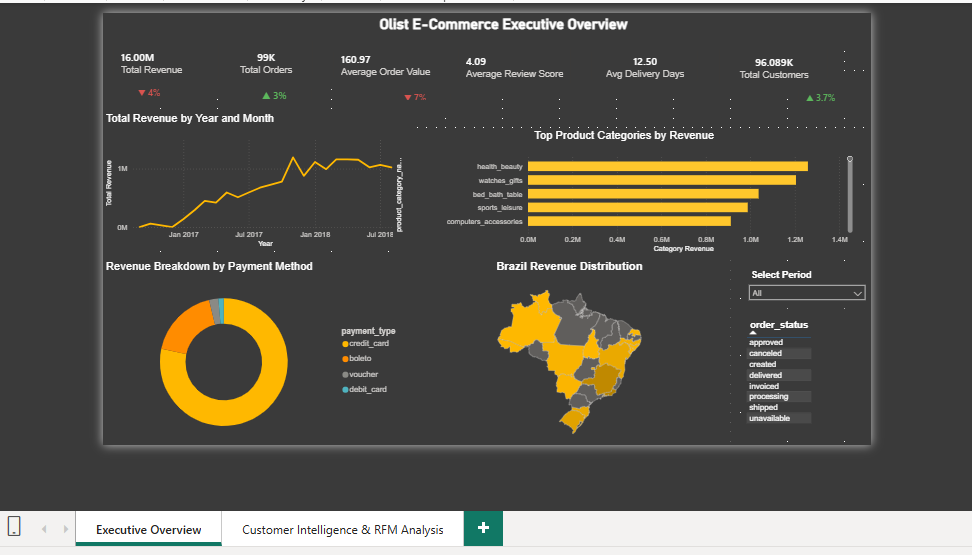

Layout of this report page (visuals, bound fields, positions):
{"tool":"powerbi","page":{"name":"Executive Overview","canvas":[1280,720],"ordinal":0},"visuals":[{"type":"textbox","box":[81.5,0,1172.4,62.5],"z":0},{"type":"cardVisual","fields":{"Data":["_Key Measures.Total Revenue"]},"box":[0,32,174.5,98.9],"z":1000},{"type":"cardVisual","fields":{"Data":["_Key Measures.Total Orders"]},"box":[174.5,29.1,192,104.7],"z":2000},{"type":"cardVisual","fields":{"Data":["_Key Measures.Average Order Value"]},"box":[366.7,45,208.3,81.7],"z":3000},{"type":"cardVisual","fields":{"Data":["_Key Measures.Average Review Score"]},"box":[574.5,40.7,222.5,96],"z":4000},{"type":"cardVisual","fields":{"Data":["_Key Measures.Avg Delivery Days"]},"box":[797.1,45.1,212.4,85.8],"z":5000},{"type":"lineChart","fields":{"Category":["public olist_orders.order_purchase_timestamp.Variation.Date Hierarchy.Year","public olist_orders.order_purchase_timestamp.Variation.Date Hierarchy.Month"],"Y":["_Key Measures.Total Revenue"]},"box":[0,165.8,508.6,230.7],"z":6000},{"type":"barChart","title":"Top Product Categories by Revenue","fields":{"Category":["public product_category_name_translation.product_category_name_english"],"Y":["_Key Measures.Category Revenue"]},"box":[482.9,193.5,770.9,210.9],"z":7000},{"type":"donutChart","title":"Revenue Breakdown by Payment Method","fields":{"Category":["public olist_order_payments.payment_type"],"Y":["_Key Measures.Total Revenue"]},"box":[0,411.9,508.6,308.2],"z":8000},{"type":"shapeMap","title":"Brazil Revenue Distribution","fields":{"Category":["public olist_customers.State_Name"],"Value":["_Key Measures.Total Revenue"]},"box":[509,411.2,538,307.9],"z":9000},{"type":"slicer","fields":{"Values":["public olist_orders.order_purchase_timestamp"]},"box":[1066.9,423.8,213.7,68.8],"z":10000},{"type":"tableEx","fields":{"Values":["public olist_orders.order_status"]},"box":[1066.9,505.4,213.7,197.4],"z":11000},{"type":"cardVisual","fields":{"Data":["Count(public olist_customers.customer_unique_id)"]},"box":[1009.5,40.7,215.3,98.9],"z":12000},{"type":"cardVisual","fields":{"Data":["_Key Measures.Trend_Revenue_Dynamic"]},"box":[27.6,104.7,117.8,52.4],"z":13000},{"type":"cardVisual","fields":{"Data":["_Key Measures.Trend_Orders_Dynamic"]},"box":[235.6,104.7,130.9,58.2],"z":14000},{"type":"cardVisual","fields":{"Data":["_Key Measures.Trend_AOV_Dynamic"]},"box":[471.7,115,125,48.3],"z":15000},{"type":"cardVisual","fields":{"Data":["_Key Measures.Trend_Customers_Dynamic"]},"box":[1141.8,109.1,138.2,61.1],"z":16000}]}

Visuals, with their boxes on the page's 1280x720 design canvas (x1, y1, x2, y2). These are canvas units, not pixel positions in the 972x555 screenshot, which may show the page scaled, cropped or inside an application window:
textbox: bbox=(82, 0, 1254, 62)
cardVisual - _Key Measures.Total Revenue: bbox=(0, 32, 174, 131)
cardVisual - _Key Measures.Total Orders: bbox=(174, 29, 366, 134)
cardVisual - _Key Measures.Average Order Value: bbox=(367, 45, 575, 127)
cardVisual - _Key Measures.Average Review Score: bbox=(574, 41, 797, 137)
cardVisual - _Key Measures.Avg Delivery Days: bbox=(797, 45, 1010, 131)
lineChart - public olist_orders.order_purchase_timestamp.Variation.Date Hierarchy.Year x public olist_orders.order_purchase_timestamp.Variation.Date Hierarchy.Month: bbox=(0, 166, 509, 396)
"Top Product Categories by Revenue" barChart: bbox=(483, 194, 1254, 404)
"Revenue Breakdown by Payment Method" donutChart: bbox=(0, 412, 509, 720)
"Brazil Revenue Distribution" shapeMap: bbox=(509, 411, 1047, 719)
slicer - public olist_orders.order_purchase_timestamp: bbox=(1067, 424, 1281, 493)
tableEx - public olist_orders.order_status: bbox=(1067, 505, 1281, 703)
cardVisual - Count(public olist_customers.customer_unique_id): bbox=(1010, 41, 1225, 140)
cardVisual - _Key Measures.Trend_Revenue_Dynamic: bbox=(28, 105, 145, 157)
cardVisual - _Key Measures.Trend_Orders_Dynamic: bbox=(236, 105, 366, 163)
cardVisual - _Key Measures.Trend_AOV_Dynamic: bbox=(472, 115, 597, 163)
cardVisual - _Key Measures.Trend_Customers_Dynamic: bbox=(1142, 109, 1280, 170)
